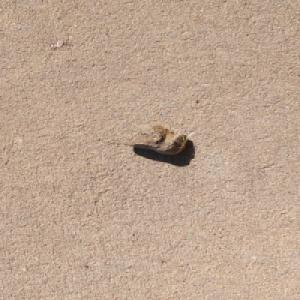Rock: (120, 123, 188, 155)
